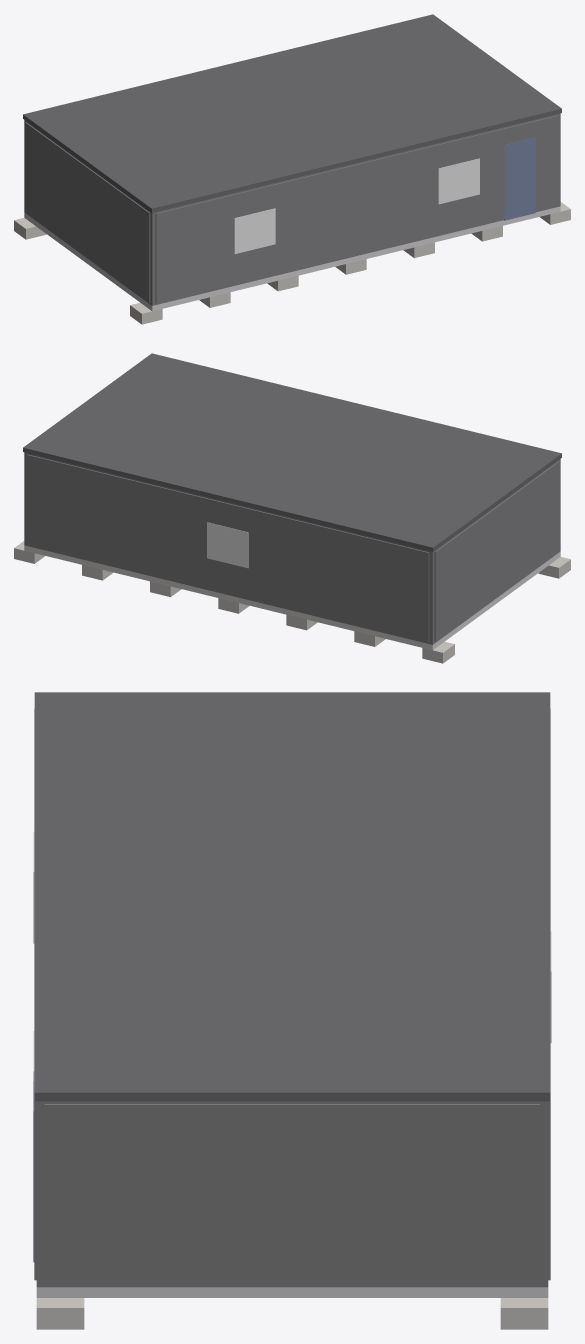
File: Studio-40-Base-CharcoalSilver-LOD0.glb
3 views of the same model, one above another, from view 1: azimuth 30°, elevation 25°; view 2: azimuth 150°, elevation 25°; view 3: azimuth 270°, elevation 25° (orthographic). The views are drawn at different scales.
Visible parts, largest first — view 1: RoofMain, ExteriorPanelsStandard, BaseFrame, WindowsStandard, ExteriorShell, FoundationBlocks, EntryDoor; view 2: RoofMain, ExteriorPanelsStandard, BaseFrame, ExteriorShell, FoundationBlocks, WindowsStandard; view 3: RoofMain, ExteriorPanelsStandard, ExteriorShell, BaseFrame, FoundationBlocks.
Part boxes in pixels (box(x1,y1,x2,y2)): RoofMain: box(23, 14, 561, 212); ExteriorPanelsStandard: box(25, 115, 557, 303); BaseFrame: box(24, 206, 560, 311); WindowsStandard: box(234, 158, 479, 254); ExteriorShell: box(24, 113, 560, 305); FoundationBlocks: box(14, 202, 570, 324); EntryDoor: box(504, 137, 535, 220); RoofMain: box(23, 353, 561, 551); ExteriorPanelsStandard: box(27, 454, 559, 642); BaseFrame: box(24, 545, 560, 650); ExteriorShell: box(24, 452, 560, 644); FoundationBlocks: box(14, 541, 570, 663); WindowsStandard: box(207, 522, 248, 568); RoofMain: box(34, 692, 550, 1101); ExteriorPanelsStandard: box(34, 709, 550, 1284); ExteriorShell: box(36, 1101, 548, 1287); BaseFrame: box(36, 1287, 548, 1297); FoundationBlocks: box(36, 1298, 548, 1329).
Size of the model in its own units: 12.49 by 3.17 by 6.53.
